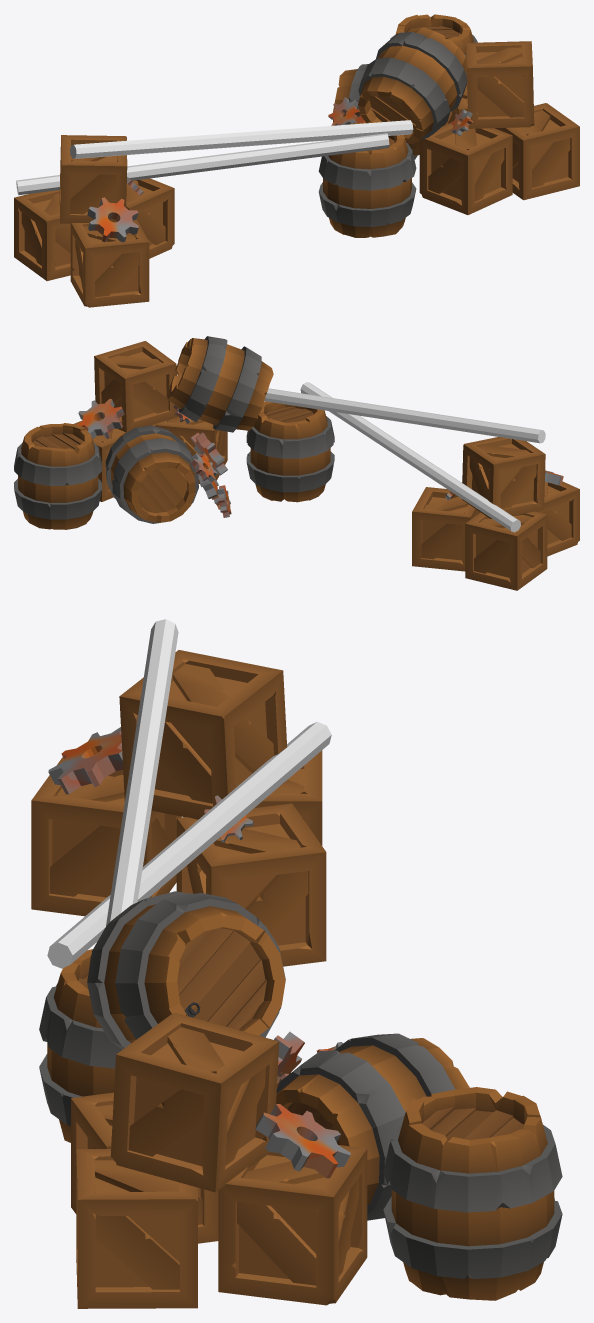
Rendered from Entulhos.fbx.
3 renders of one model, top to bottom at view 1: azimuth 30°, elevation 25°; view 2: azimuth 150°, elevation 25°; view 3: azimuth 270°, elevation 25°, orthographic. The views are drawn at different scales.
Parts seen in each view (by area): view 1: CaixotesEngrenagem.004, CaixotesEngrenagem.003, Contencao.002, Contencao.003; view 2: CaixotesEngrenagem.004, CaixotesEngrenagem.003, Contencao.002, Contencao.003; view 3: CaixotesEngrenagem.004, CaixotesEngrenagem.003, Contencao.003, Contencao.002.
Boxes of the visible parts, bbox=[...] form: CaixotesEngrenagem.004: bbox=[318, 14, 579, 237]; CaixotesEngrenagem.003: bbox=[14, 135, 174, 307]; Contencao.002: bbox=[70, 120, 413, 158]; Contencao.003: bbox=[16, 133, 389, 195]; CaixotesEngrenagem.004: bbox=[14, 336, 334, 529]; CaixotesEngrenagem.003: bbox=[412, 437, 579, 590]; Contencao.002: bbox=[264, 388, 545, 443]; Contencao.003: bbox=[300, 382, 520, 532]; CaixotesEngrenagem.004: bbox=[39, 891, 562, 1308]; CaixotesEngrenagem.003: bbox=[31, 650, 326, 966]; Contencao.003: bbox=[47, 722, 331, 968]; Contencao.002: bbox=[106, 619, 178, 926].
Bounding box in the file's own units: 5.92 × 1.8 × 2.96.
